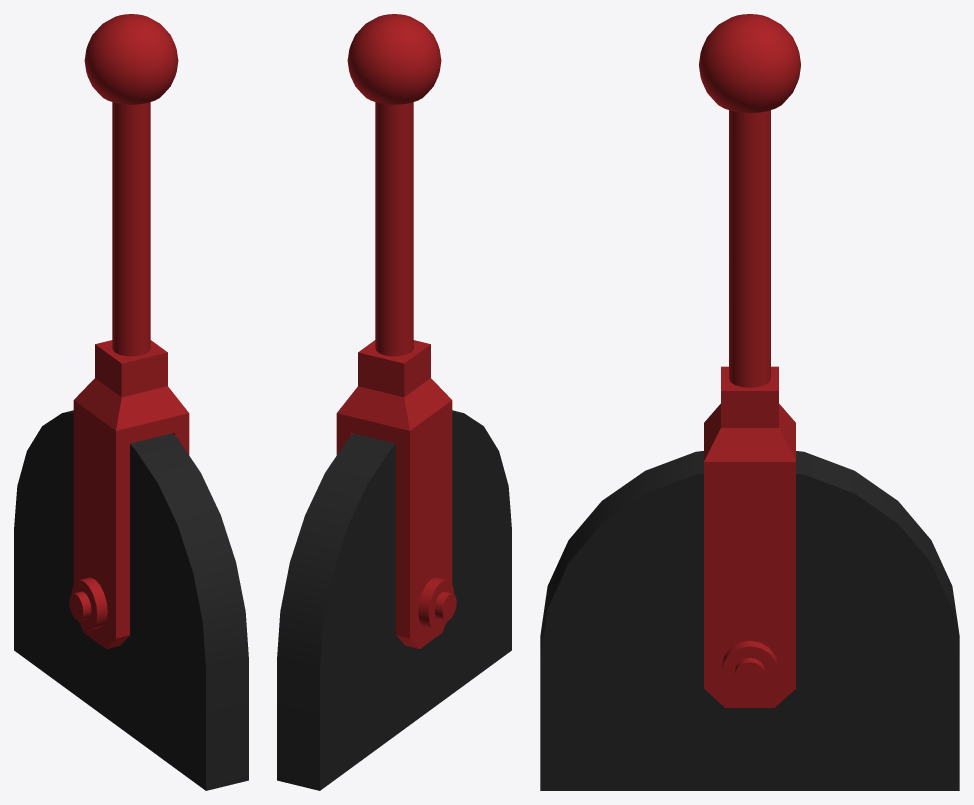
File: lever.fbx
3 renders of one model, left to right at view 1: azimuth 30°, elevation 25°; view 2: azimuth 150°, elevation 25°; view 3: azimuth 270°, elevation 25°, orthographic. The views are drawn at different scales.
Parts seen in each view (by area): view 1: Lever_Base, Lever; view 2: Lever_Base, Lever; view 3: Lever_Base, Lever.
Boxes of the visible parts, bbox=[...] form: Lever_Base: bbox=[14, 410, 248, 790]; Lever: bbox=[69, 14, 189, 649]; Lever_Base: bbox=[277, 410, 511, 790]; Lever: bbox=[336, 14, 456, 649]; Lever_Base: bbox=[540, 451, 959, 790]; Lever: bbox=[699, 14, 800, 707].
Bounding box in the file's own units: 0.0219 × 0.066 × 0.1322.
